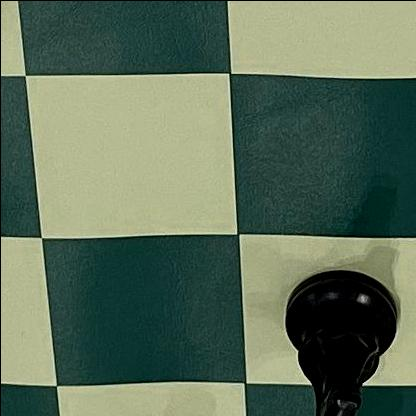black-knight: (279, 270, 408, 416)
